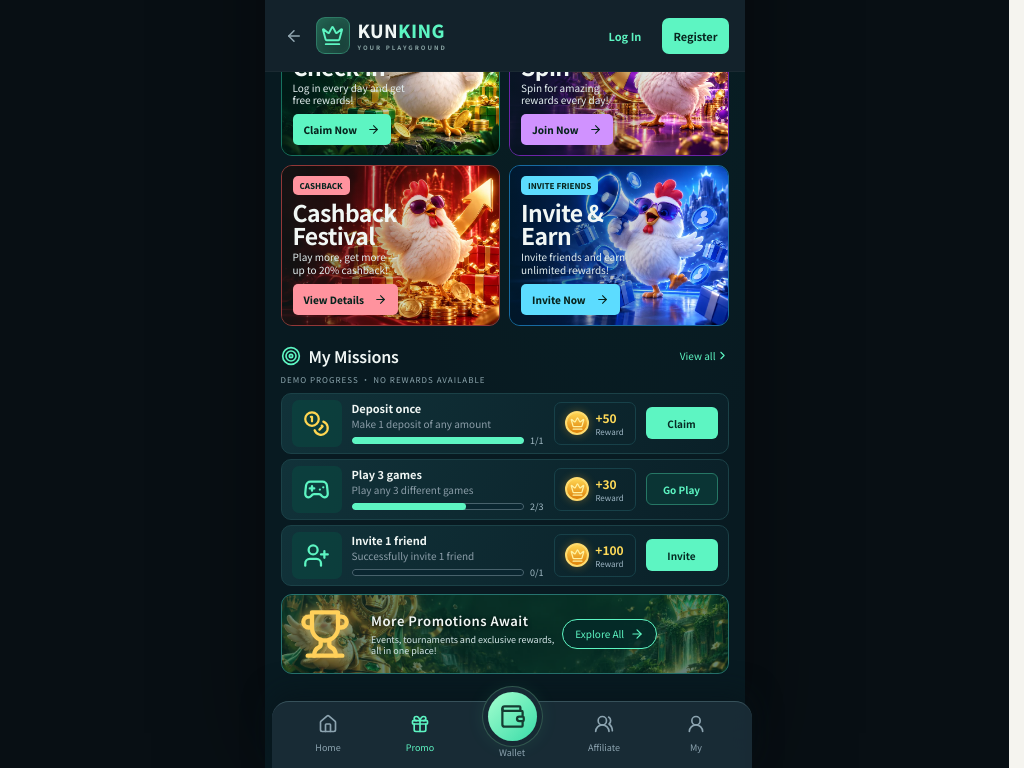
Test: shows full promotion and mission lists, navigates detail within the same dialog
The image size is (1024, 768).
(page scrolled)
Step 1. Click the button "Explore All" → (610, 634), box 562,619 -> 657,649
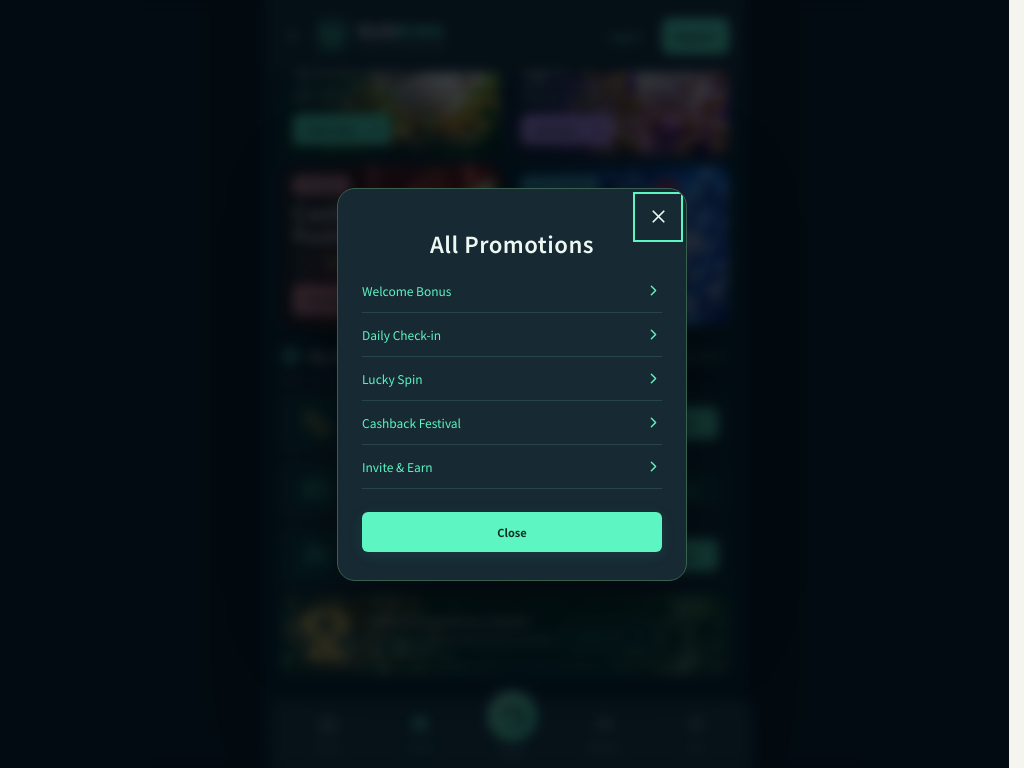
Step 2. Click the button "Lucky Spin" → (392, 378), box 362,356 -> 662,400
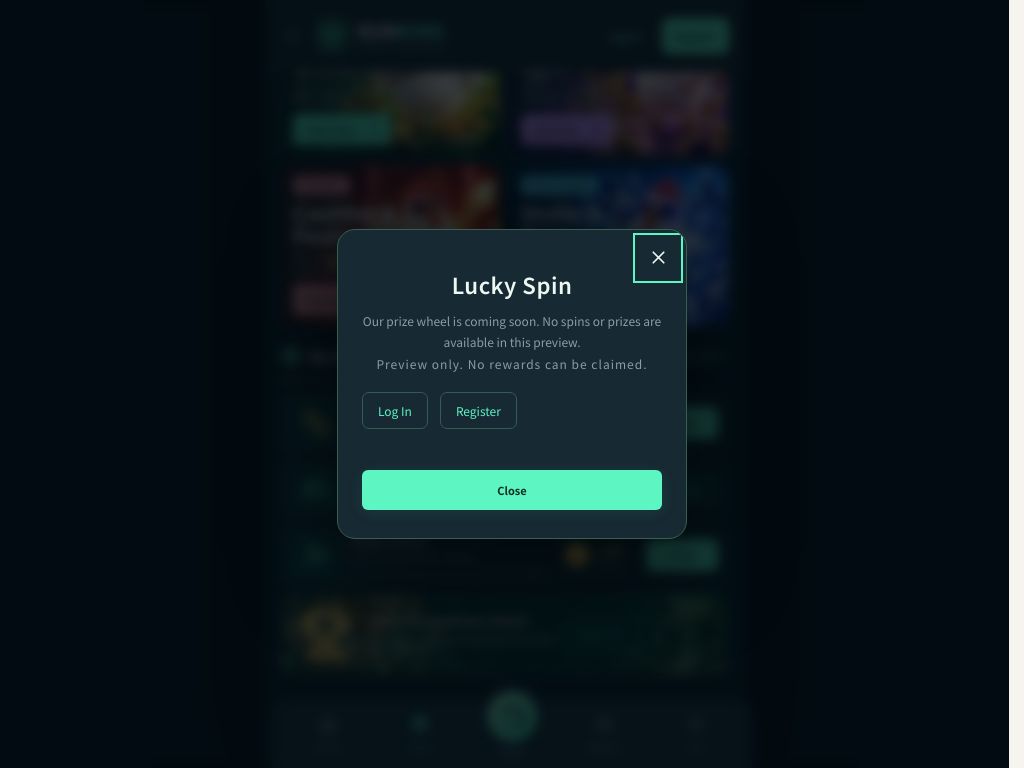
Now the dialog "Lucky Spin" is shown, box 337,229 -> 687,539
Step 3. Click the button named "Close promotion panel" → (658, 258), box 638,238 -> 678,278
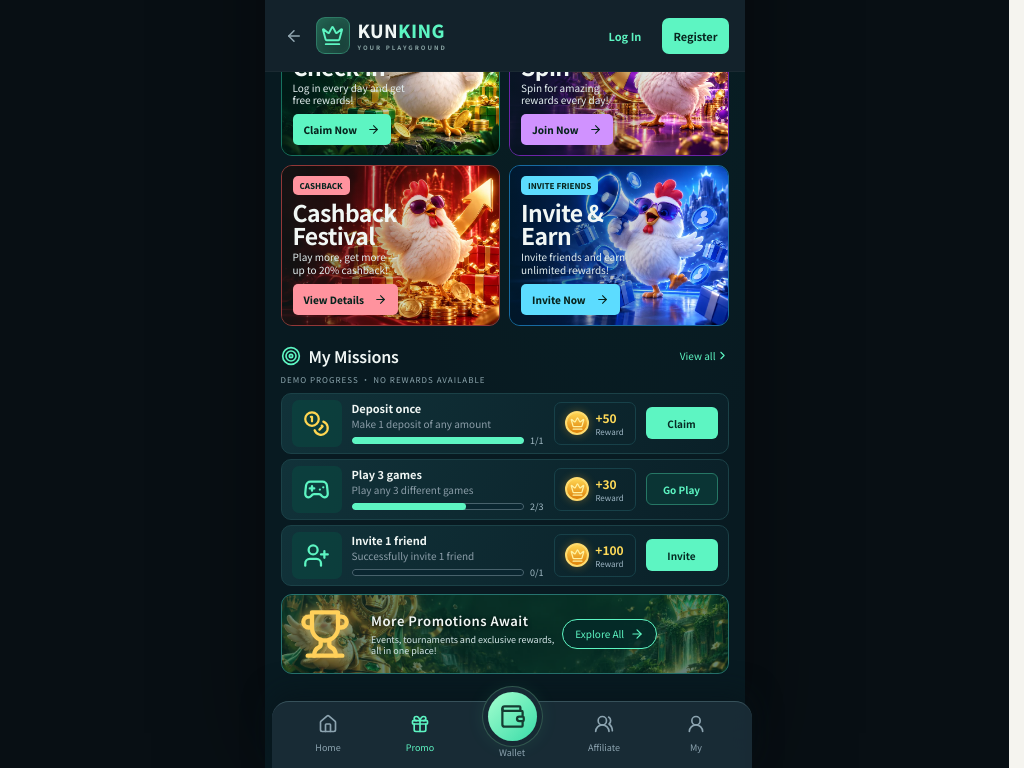
Step 4. Click the button "View all" → (704, 356), box 680,342 -> 728,370
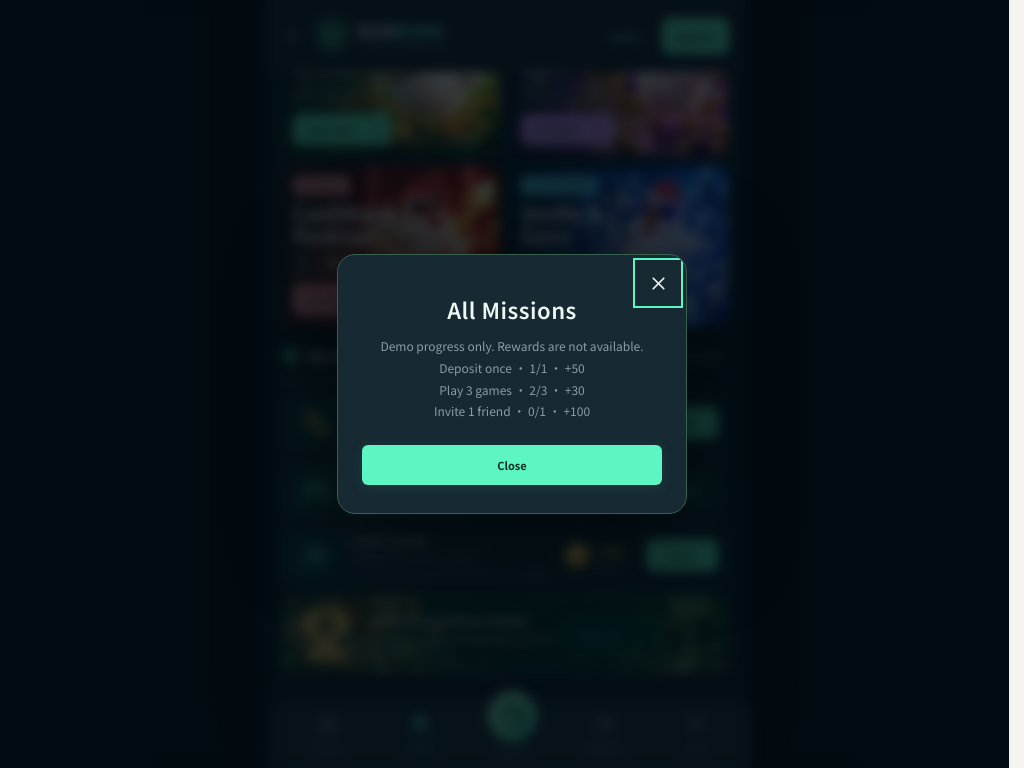
Now the dialog "All Missions" is shown
Step 5. Click the dialog → (512, 384), box 337,254 -> 687,514
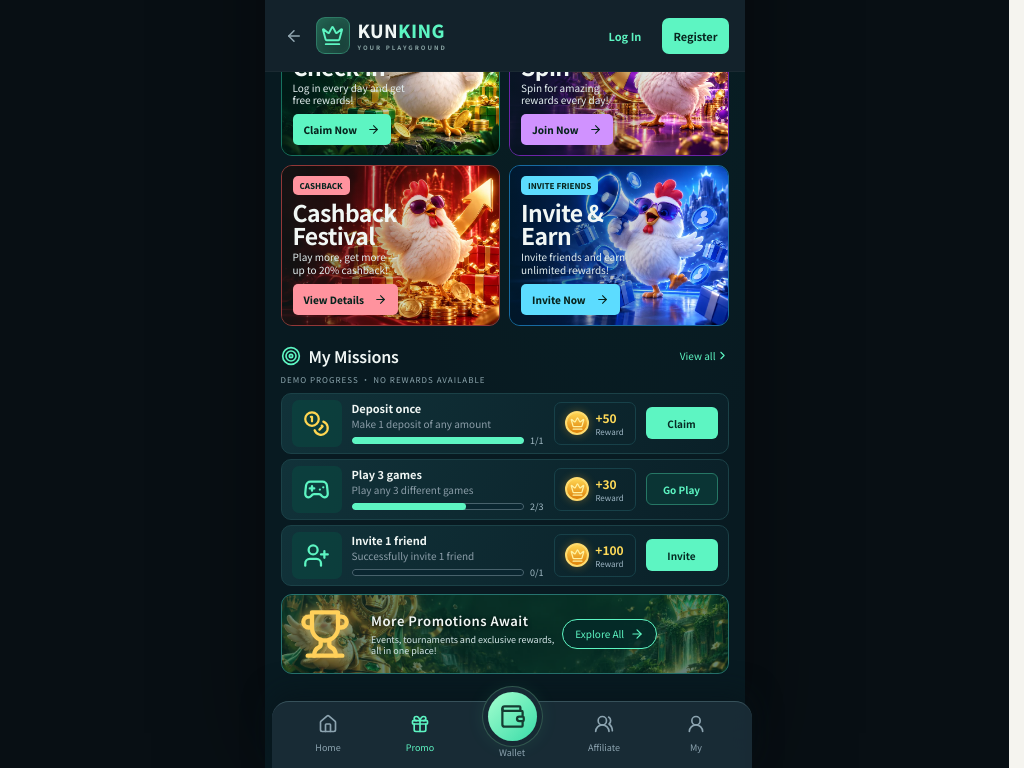
Now the dialog is gone
